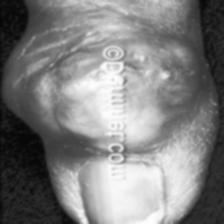Unclassified: (120, 41, 200, 136), (41, 56, 94, 142)
